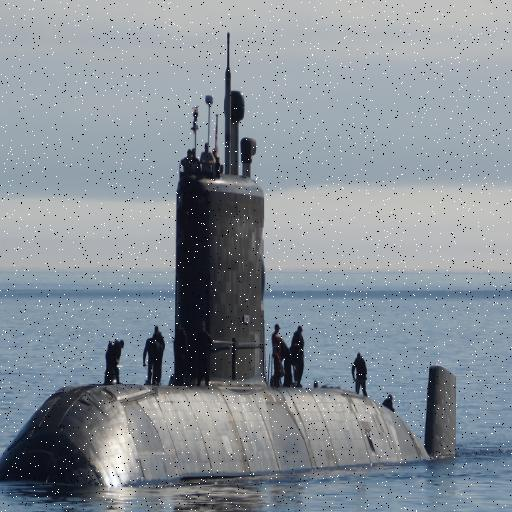submarine: (1, 172, 458, 481)
